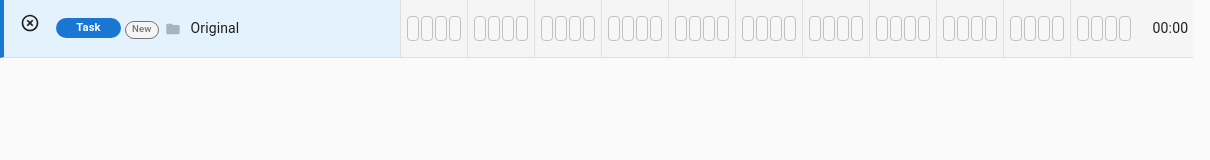
Test case: TaskRow › edit mode › should update task when pressing Enter
Replace the text in the field showing "Original" with "Via Enter" at point(287, 28), box [190,18,384,38]
Then press Enter
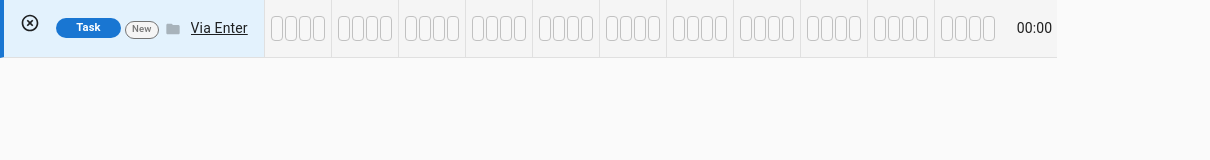
Expected: the text "Via Enter" is shown, [190,18,248,38]
